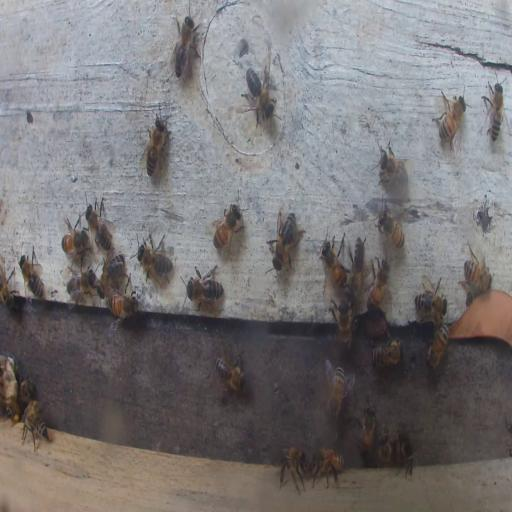bee: (432, 89, 467, 150), (268, 210, 303, 270), (241, 65, 274, 126), (183, 264, 224, 312), (137, 233, 173, 284), (144, 110, 170, 179), (171, 15, 198, 81), (322, 358, 350, 420), (482, 77, 506, 145), (276, 446, 308, 497), (84, 195, 113, 251), (212, 201, 242, 253), (320, 236, 350, 288), (374, 202, 406, 250), (414, 278, 448, 322), (22, 400, 50, 453), (214, 345, 246, 391), (309, 448, 343, 491), (378, 140, 408, 186), (19, 249, 44, 300), (463, 250, 490, 297), (426, 320, 451, 370), (366, 260, 389, 310), (66, 267, 97, 304), (330, 296, 352, 348), (397, 425, 418, 478), (61, 218, 87, 256), (358, 404, 376, 457), (350, 238, 365, 296), (98, 256, 125, 288), (1, 262, 19, 310), (109, 291, 139, 319), (370, 341, 402, 367), (364, 312, 390, 338), (377, 425, 392, 467), (17, 376, 37, 404), (5, 400, 20, 422), (5, 401, 20, 421)
